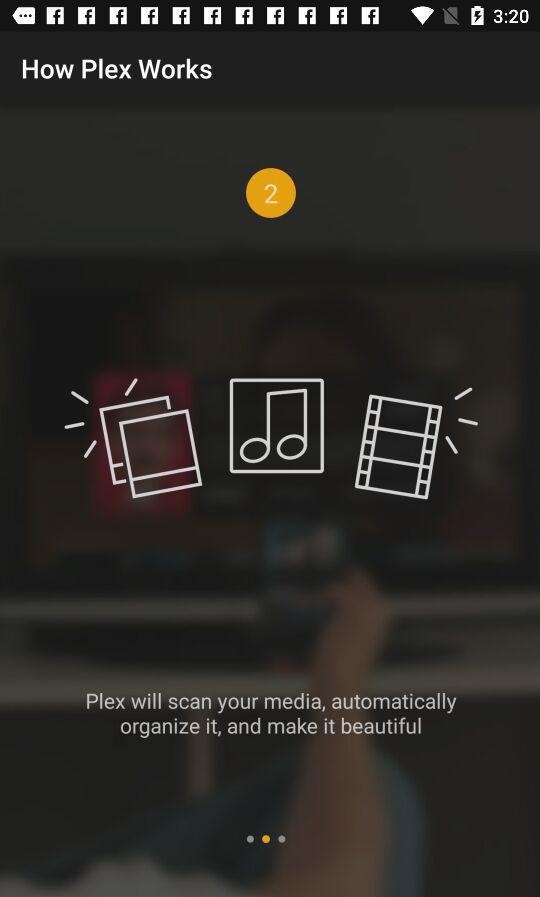BackgroundImage: (1, 33, 540, 897)
Image: (62, 377, 479, 501), (245, 168, 297, 220)
PageIndicator: (246, 834, 287, 845)
Text: (86, 692, 457, 739), (22, 58, 214, 81)
UpperTaskBar: (1, 1, 540, 33)
